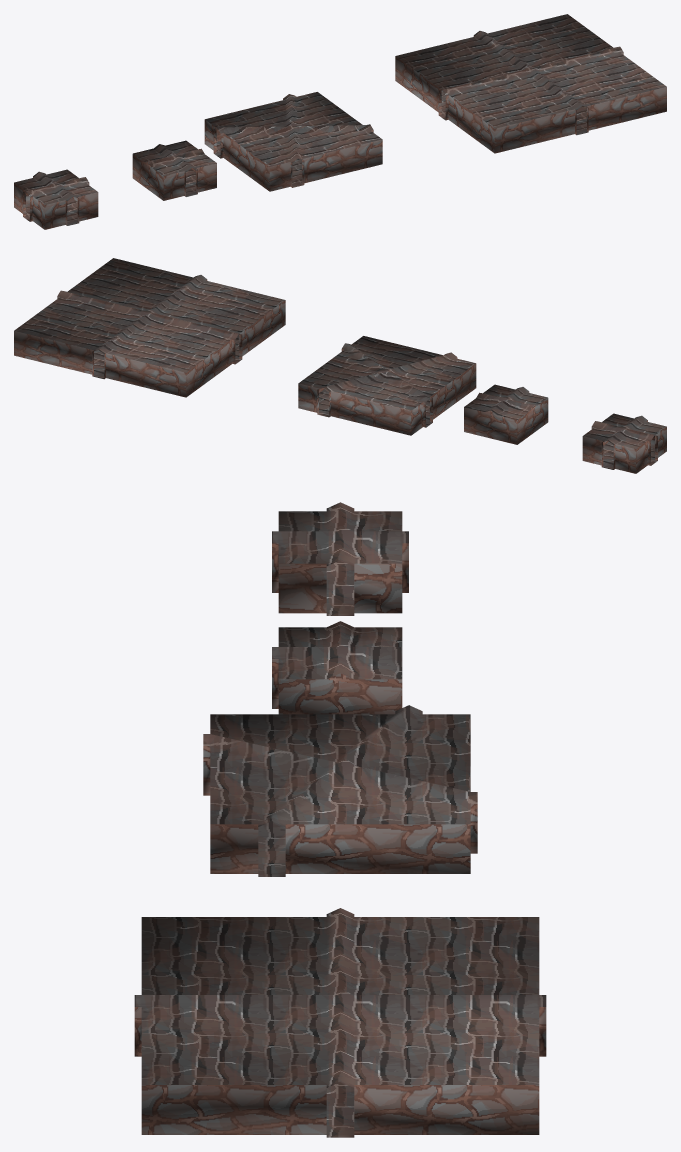
Rendered from RoomsV2.fbx.
The picture shows the model from 3 angles, top to bottom: view 1: azimuth 30°, elevation 25°; view 2: azimuth 150°, elevation 25°; view 3: azimuth 270°, elevation 25°; orthographic projection. The views are drawn at different scales.
Visible parts, largest first — view 1: Room Small.003, Room Small.002, Room Small, Room Small.001; view 2: Room Small.003, Room Small.002, Room Small, Room Small.001; view 3: Room Small.003, Room Small.002, Room Small, Room Small.001.
Part boxes in pixels (box(x1,y1,x2,y2)): Room Small.003: box(395, 14, 666, 153); Room Small.002: box(204, 92, 382, 191); Room Small: box(14, 169, 98, 229); Room Small.001: box(132, 140, 216, 200); Room Small.003: box(14, 258, 285, 397); Room Small.002: box(298, 336, 476, 435); Room Small: box(582, 413, 666, 473); Room Small.001: box(464, 384, 548, 444); Room Small.003: box(134, 908, 546, 1137); Room Small.002: box(203, 705, 477, 876); Room Small: box(272, 502, 408, 615); Room Small.001: box(272, 621, 402, 714).
Bounding box in the file's own units: 100 × 4.5 × 30.
